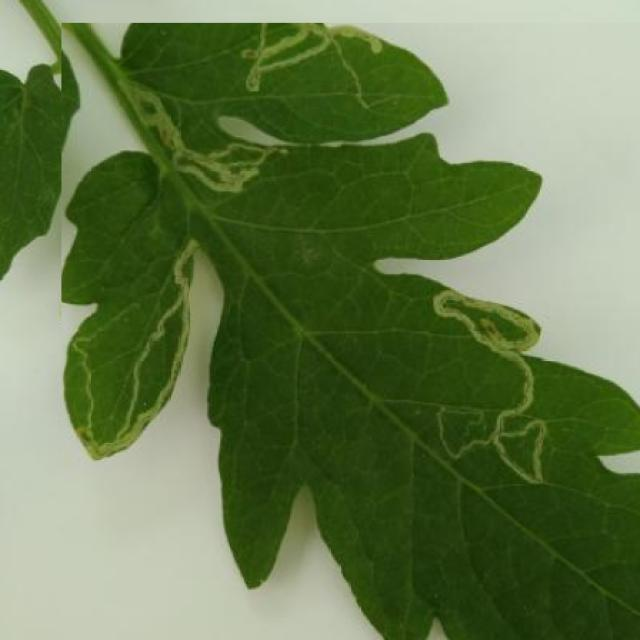Leaf Miner: (61, 23, 640, 640)
